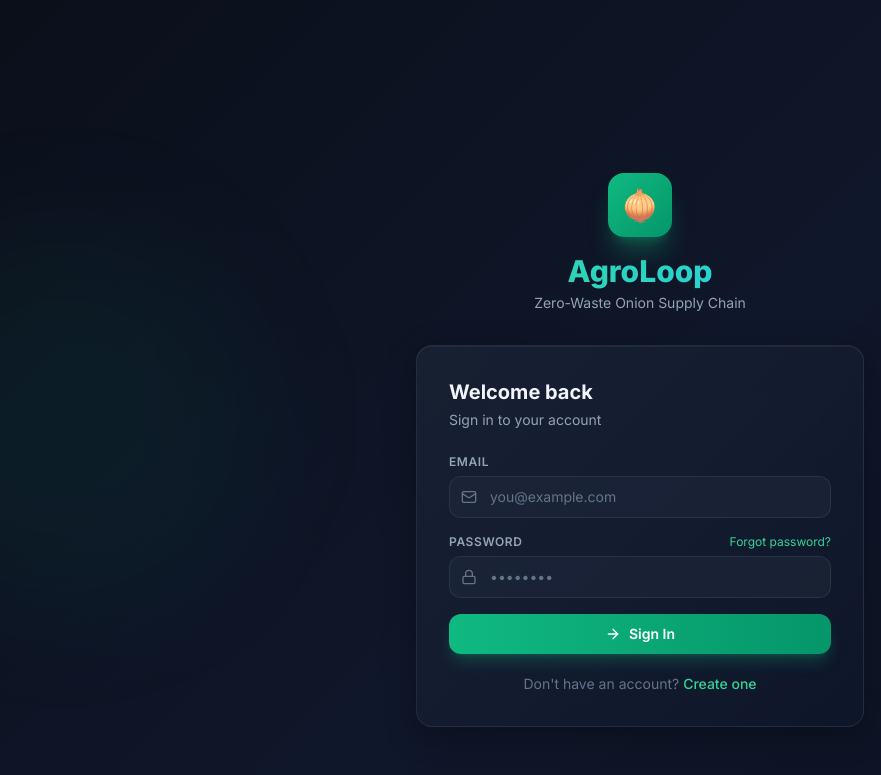
Test: Login page — wrong password › shows "Invalid email or password." and stays on the login page
Step 1. Type "client@test.dev" into the field labelled "Email" → (640, 497), box [449, 476, 831, 518]
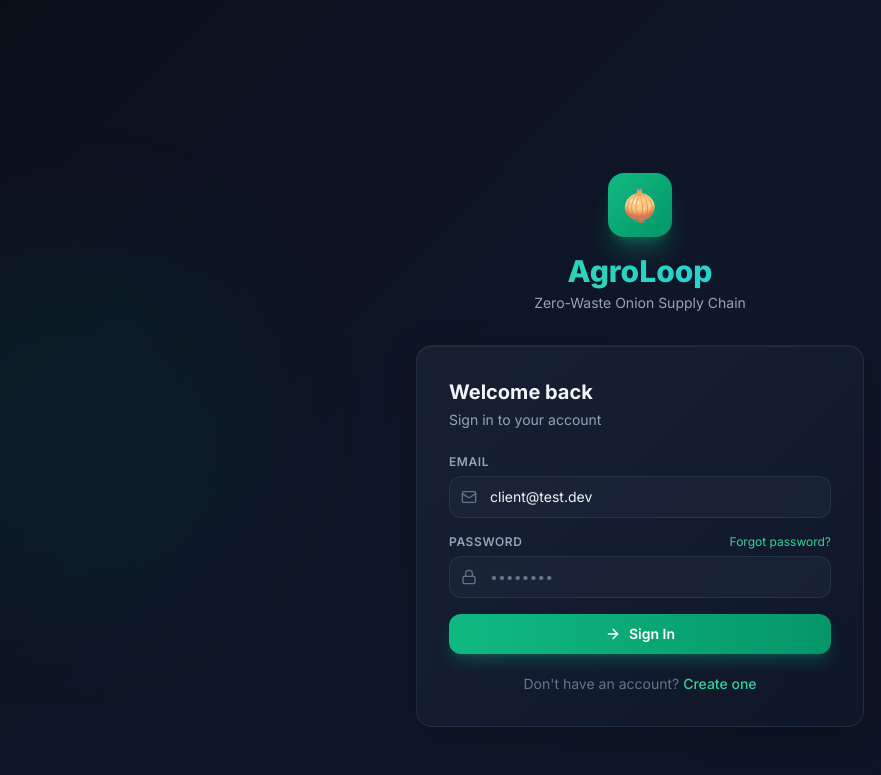
Step 2. Type "wrong-password" into the password field labelled "Password" → (640, 577), box [449, 556, 831, 598]
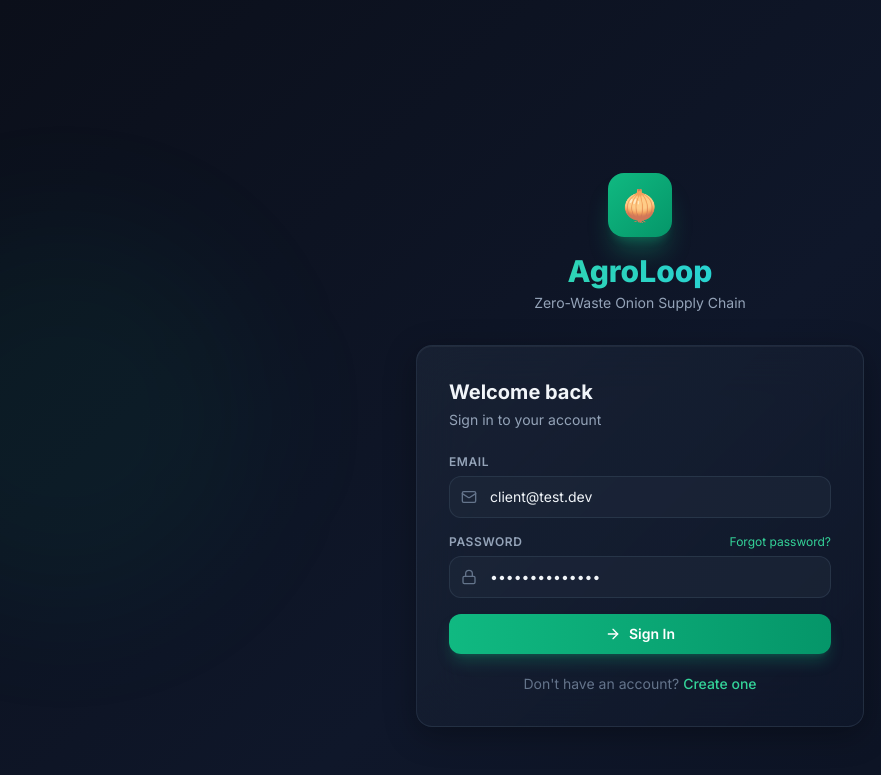
Step 3. Click the button "Sign In" → (640, 634), box [449, 614, 831, 654]
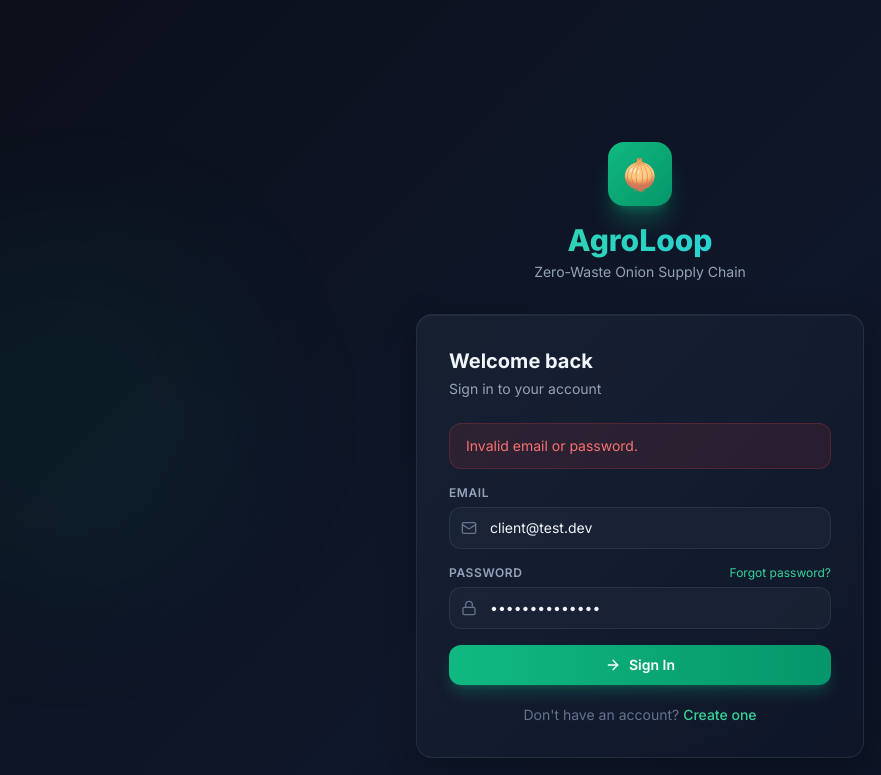
Expected: the button "Sign In" is shown, [449, 645, 831, 685]
Now the message with test id "login-error" reads "Invalid email or password.", box [466, 437, 638, 454]
Now the message "Invalid email or password." is shown, box [449, 423, 831, 469]
